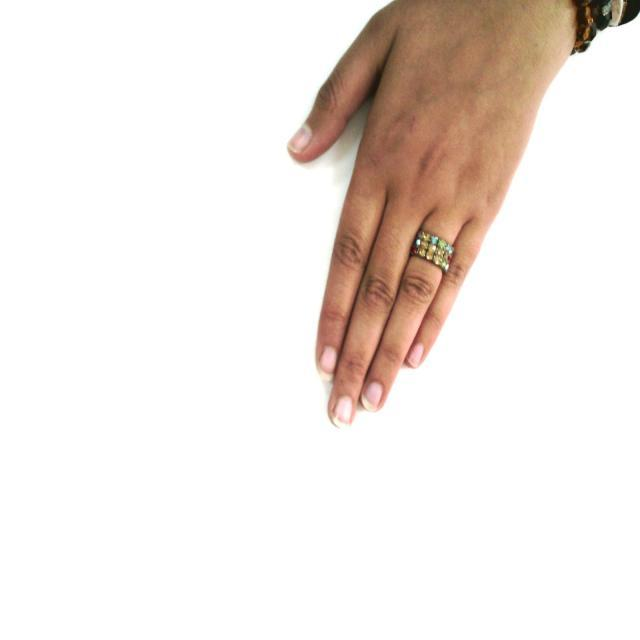Fingernail: (319, 345, 338, 382), (332, 396, 352, 431), (362, 381, 382, 411), (289, 125, 311, 151), (407, 344, 424, 367)
